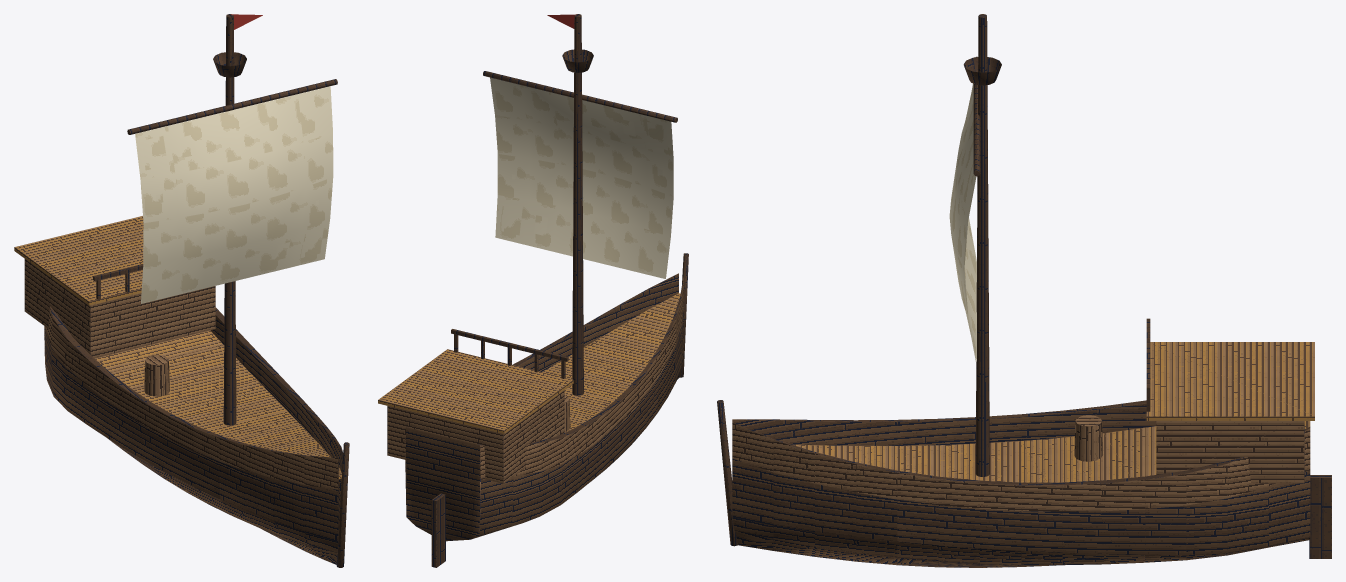
File: med_ship_1.glb
3 renders of one model, left to right at view 1: azimuth 30°, elevation 25°; view 2: azimuth 150°, elevation 25°; view 3: azimuth 270°, elevation 25°, orthographic. The views are drawn at different scales.
Visible parts, largest first — view 1: med_ship_2; view 2: med_ship_2; view 3: med_ship_2.
Part boxes in pixels (<box>): med_ship_2: <box>14,14,349,567</box>; med_ship_2: <box>378,14,688,567</box>; med_ship_2: <box>717,14,1331,567</box>.
Bounding box in the file's own units: 5.6 × 12.67 × 12.77.
Materials: 7 (7 with a texture image).
